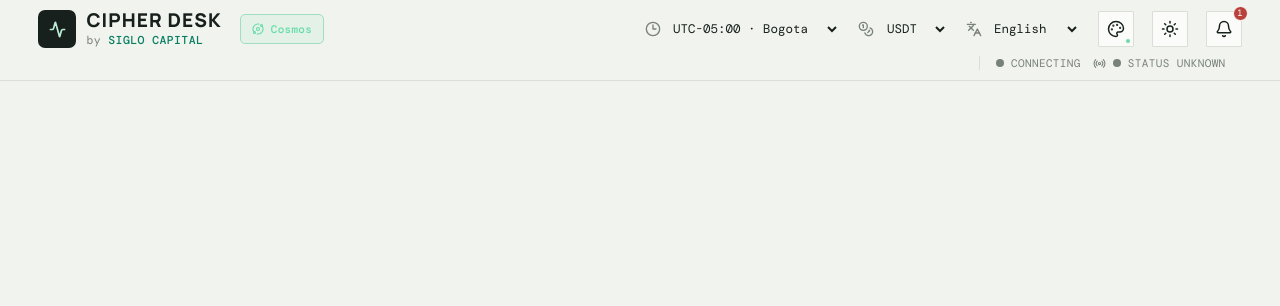
Scenario: PlatformHeader › shows accumulated Kairos events in notification history
Step 1. Click the button named "1 unread notifications" → (1224, 29), box [1206,11,1242,47]
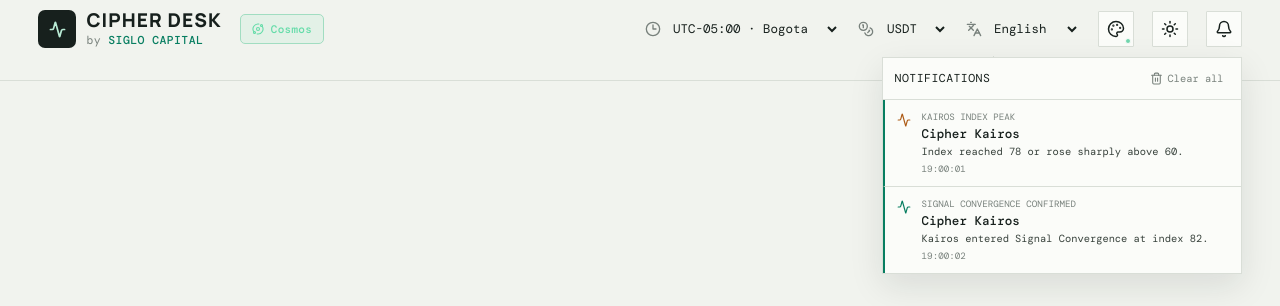
Check: the text "Kairos index peak" is shown, box [922,111,1015,123]
Check: the text "Signal convergence confirmed" is shown, box [922,198,1076,210]
Check: the text "Cipher Kairos" is shown 2 times, box [922,126,1020,142]; [922,213,1020,229]
